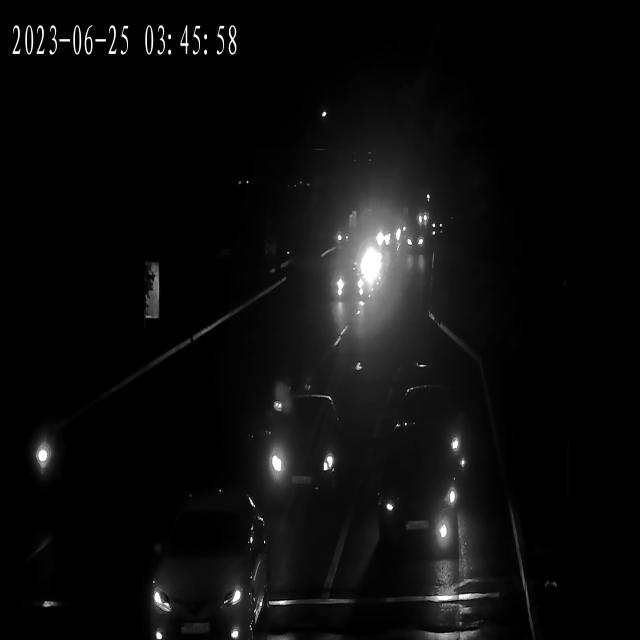Car: (144, 498, 268, 639), (250, 402, 348, 508), (374, 459, 463, 556), (385, 386, 467, 481), (332, 262, 373, 303), (351, 236, 384, 276), (402, 230, 426, 254), (374, 229, 400, 249)
